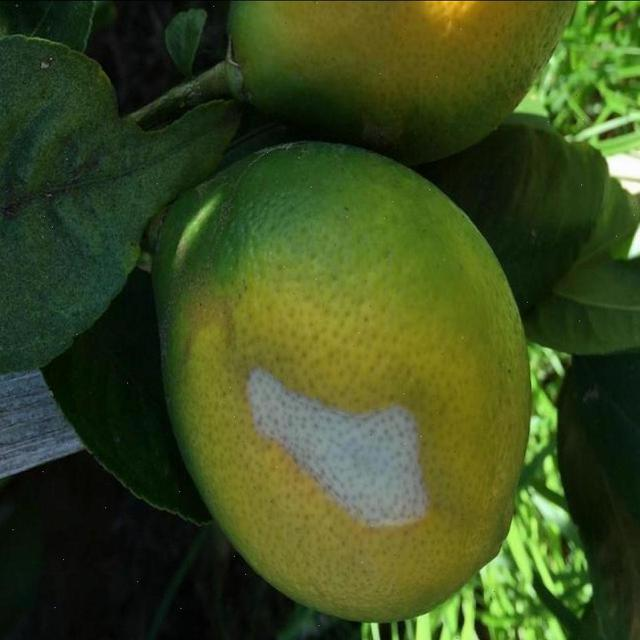Sunscald Fruit: (159, 230, 290, 352)
